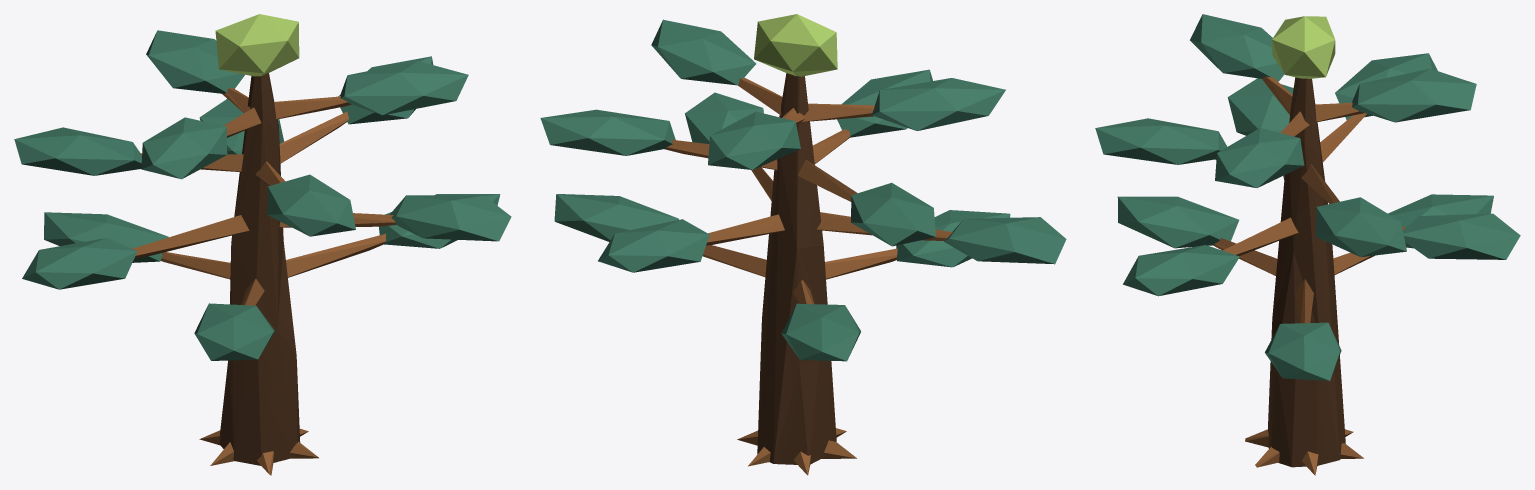
3 views of the same model, side by side, from view 1: azimuth 30°, elevation 25°; view 2: azimuth 150°, elevation 25°; view 3: azimuth 270°, elevation 25° (orthographic).
Parts seen in each view (by area): view 1: WK_FantasyTree_GiantAncientCedar_LOD1_Balanced; view 2: WK_FantasyTree_GiantAncientCedar_LOD1_Balanced; view 3: WK_FantasyTree_GiantAncientCedar_LOD1_Balanced.
Boxes of the visible parts, box(x1,y1,x2,y2) form: WK_FantasyTree_GiantAncientCedar_LOD1_Balanced: box(14, 14, 511, 475); WK_FantasyTree_GiantAncientCedar_LOD1_Balanced: box(540, 14, 1066, 475); WK_FantasyTree_GiantAncientCedar_LOD1_Balanced: box(1095, 14, 1520, 475).
Bounding box in the file's own units: 13.11 × 11.31 × 9.92.
